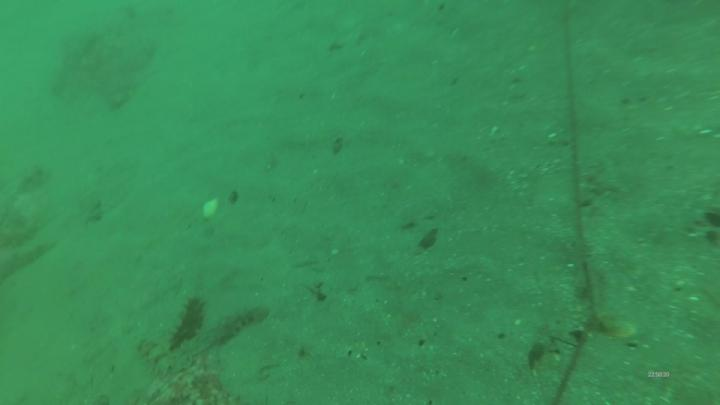holothurian: (187, 305, 271, 359), (134, 336, 196, 381), (166, 294, 210, 355)
scallop: (200, 195, 222, 224)
